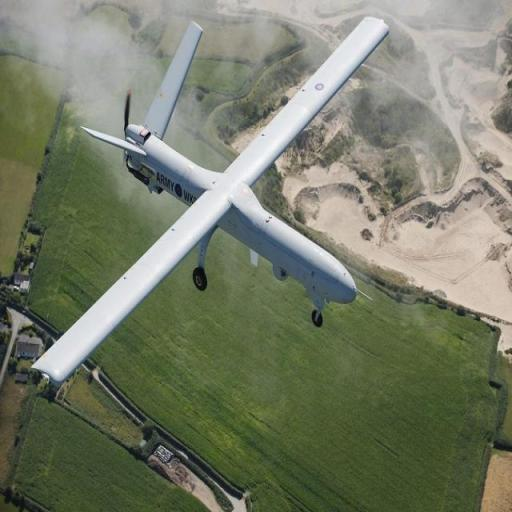uav: (33, 13, 401, 386)
